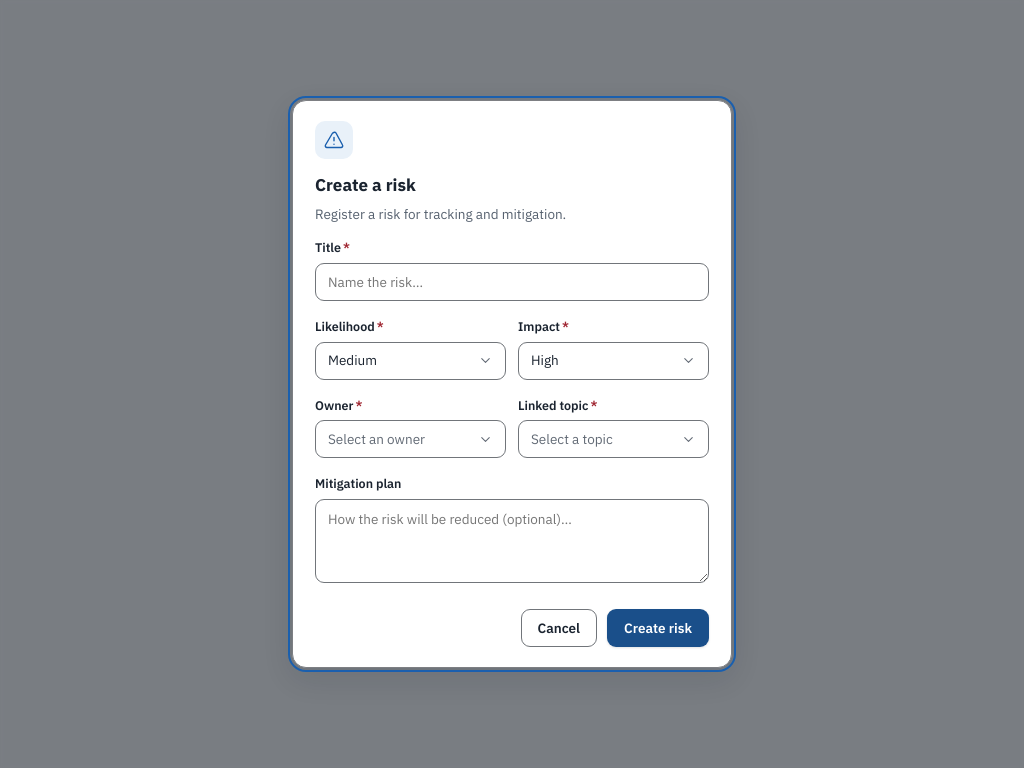
Test case: CreateRiskDialog (P10b) › surfaces a server error and does not navigate
Type "X" into the field labelled "Title*". click: point(512, 282)
box: x1=315 y1=263 x2=709 y2=301
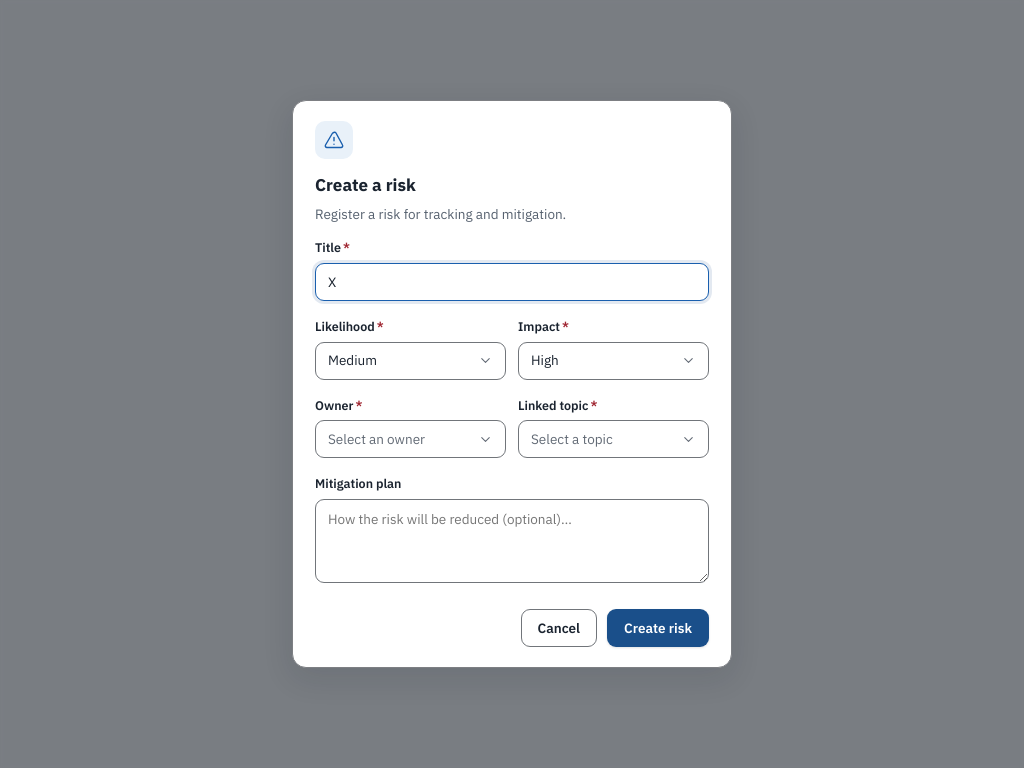
Click the button "Select an owner". click: point(410, 439)
box: x1=315 y1=420 x2=506 y2=458
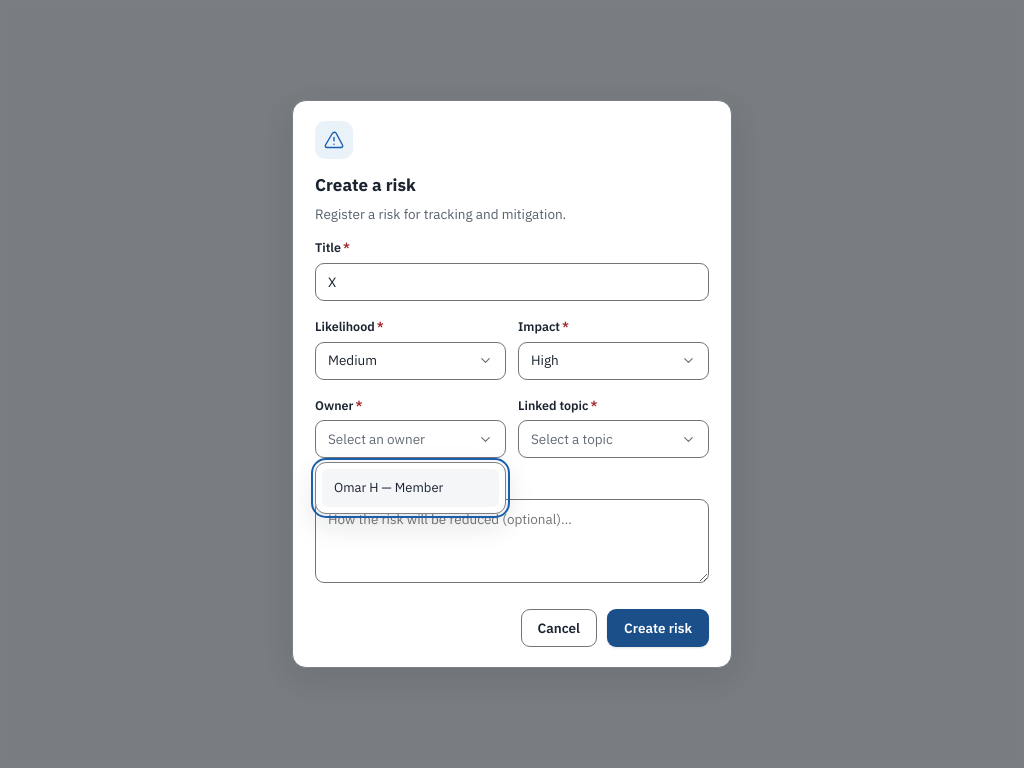
Click the option "Omar H — Member". click: point(410, 488)
box: x1=322 y1=469 x2=499 y2=507
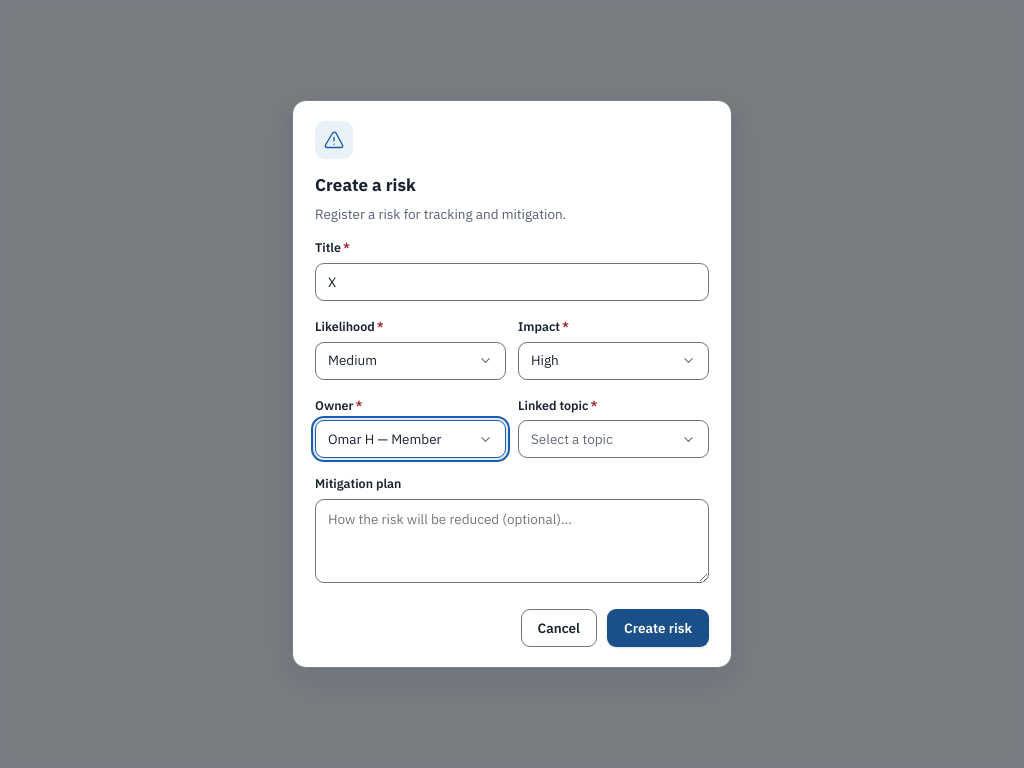
Click the button with aria-label "Linked topic". click: point(614, 439)
box: x1=518 y1=420 x2=709 y2=458
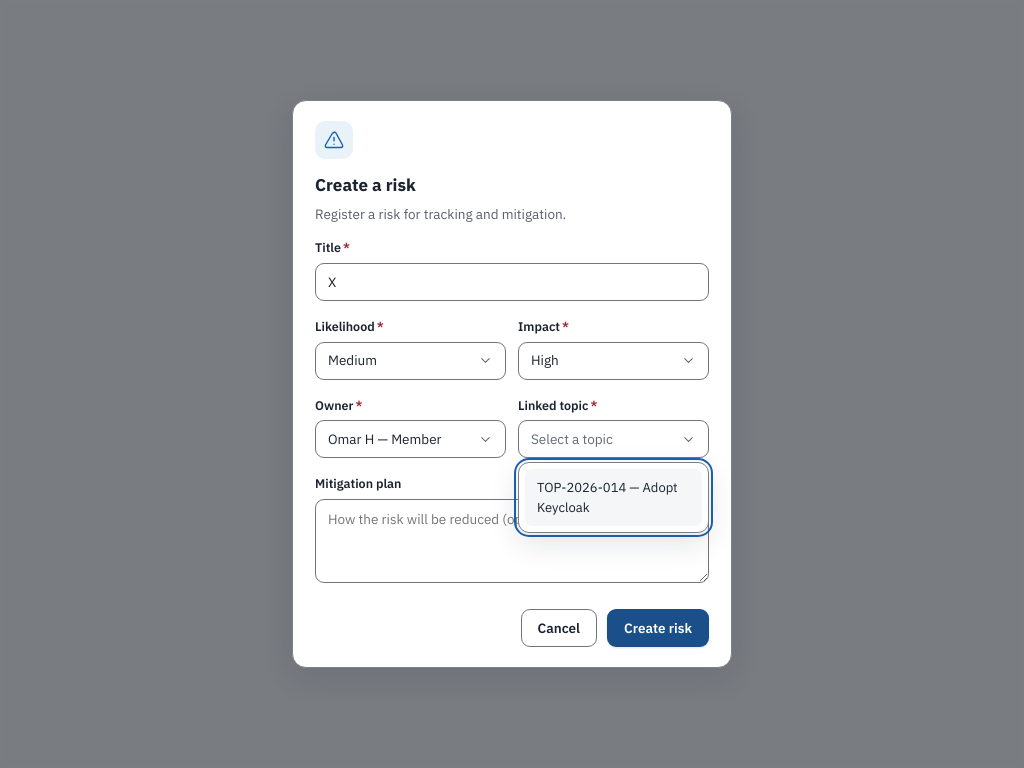
Click the option "TOP-2026-014 — Adopt Keycloak". click: point(614, 498)
box: x1=525 y1=469 x2=702 y2=526
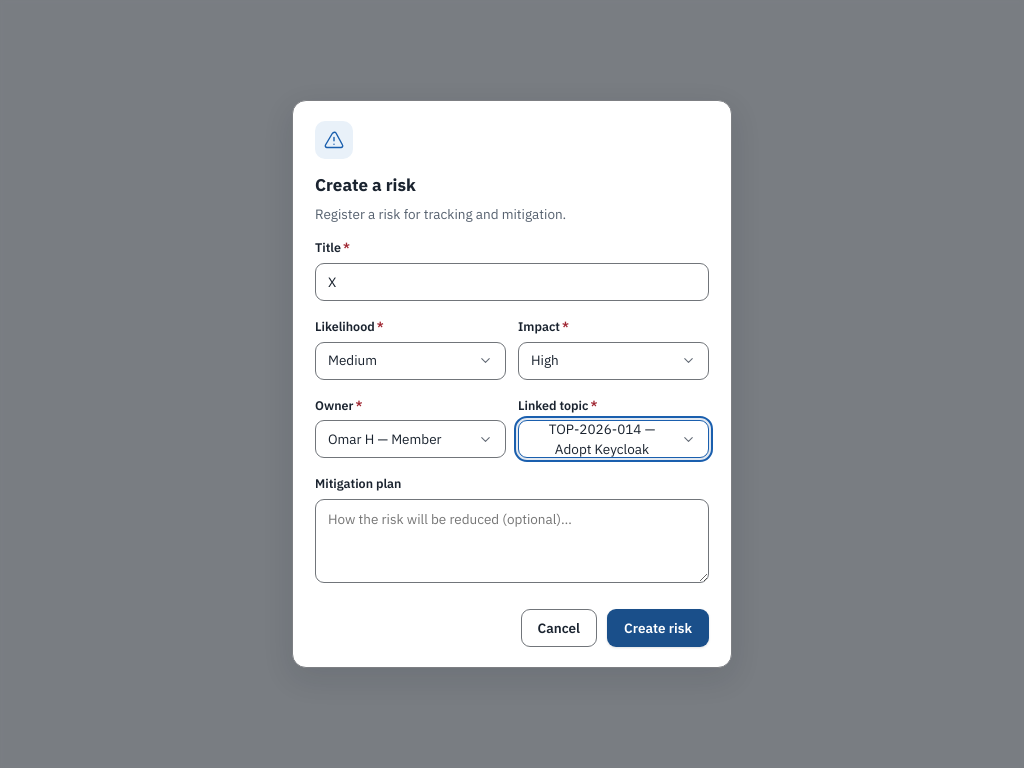
Click the button "Create risk". click: point(658, 628)
box: x1=607 y1=609 x2=709 y2=647
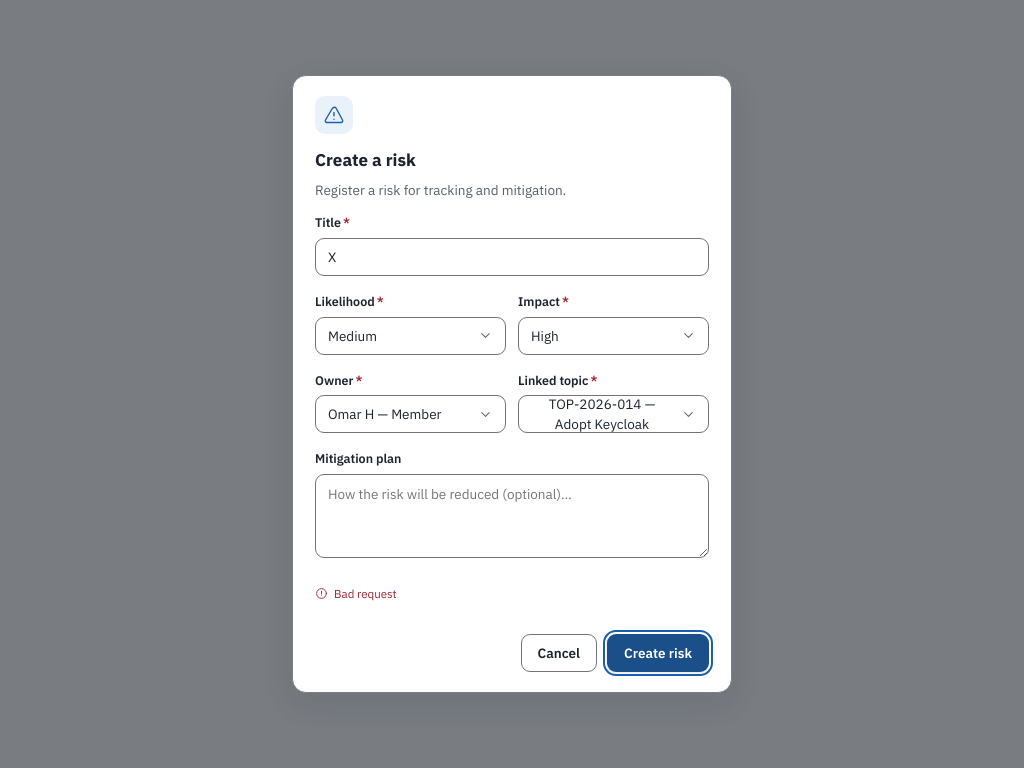
expect the message reads "Bad request": met, box x1=334 y1=586 x2=397 y2=601
